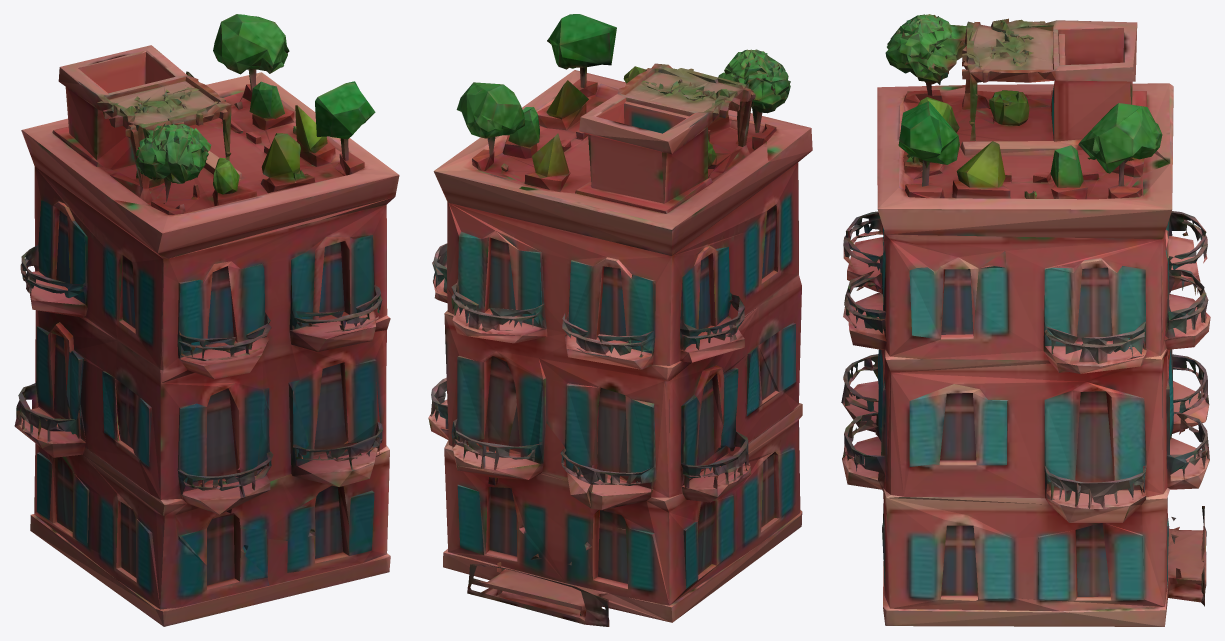
File: b-apart2.glb
3 views of the same model, side by side, from view 1: azimuth 30°, elevation 25°; view 2: azimuth 150°, elevation 25°; view 3: azimuth 270°, elevation 25° (orthographic). The views are drawn at different scales.
Parts seen in each view (by area): view 1: geometry_0; view 2: geometry_0; view 3: geometry_0.
Part boxes in pixels (x1,y1,x2,y2): geometry_0: (14, 14, 399, 626); geometry_0: (428, 14, 812, 626); geometry_0: (841, 14, 1210, 626).
Size of the model in its own units: 0.6519 by 0.9955 by 0.651.
Materials: 1 (1 with a texture image).
